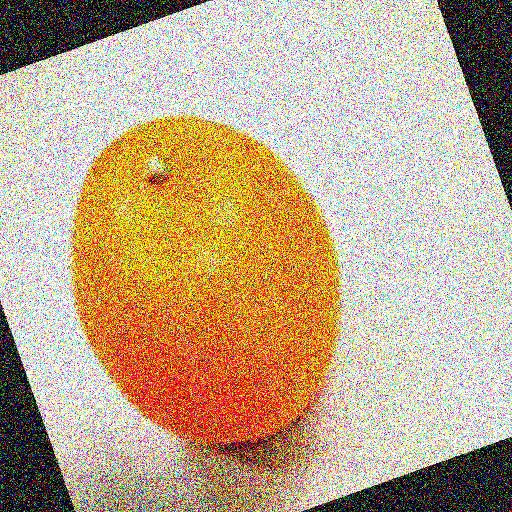fruit: (197, 74, 475, 427)
